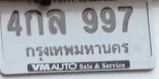num4: (6, 9, 23, 38)
txt01: (23, 9, 45, 37)
txt31: (45, 8, 67, 36)
